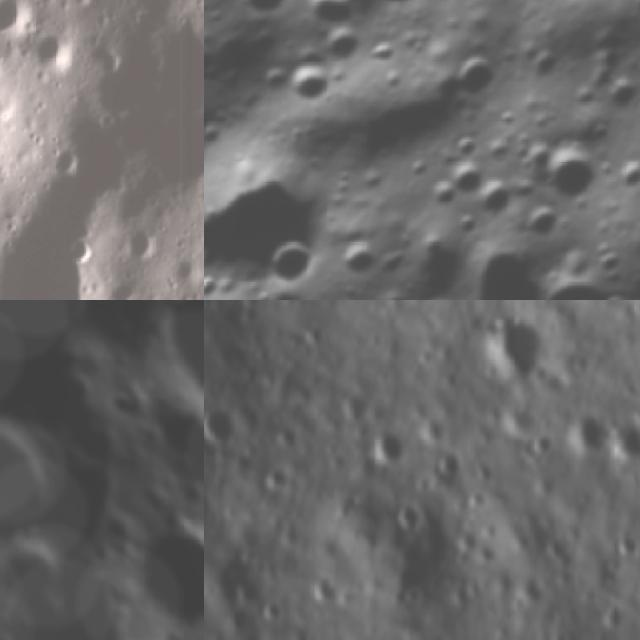crater: (57, 18, 204, 231), (204, 131, 358, 300), (0, 377, 78, 582), (418, 226, 573, 300), (120, 505, 204, 639), (129, 375, 204, 524), (0, 223, 118, 300), (138, 300, 204, 437), (204, 42, 248, 229), (470, 303, 550, 394), (530, 132, 614, 215), (435, 34, 512, 110), (521, 250, 638, 300), (256, 228, 327, 300), (280, 49, 344, 114), (310, 17, 369, 74), (510, 128, 565, 183), (360, 422, 414, 477), (297, 0, 366, 42), (565, 404, 613, 464), (332, 233, 383, 284), (581, 235, 632, 286), (593, 68, 640, 120), (444, 153, 492, 201), (420, 171, 468, 218), (226, 0, 300, 30), (523, 41, 570, 88), (114, 224, 160, 271), (502, 398, 547, 446), (386, 491, 429, 540), (302, 569, 349, 613), (35, 28, 77, 74), (204, 399, 240, 450), (607, 416, 640, 470), (606, 148, 640, 200), (254, 55, 296, 97), (445, 125, 487, 167), (428, 446, 468, 484), (361, 0, 435, 20), (166, 252, 201, 294), (0, 0, 33, 39), (607, 530, 640, 569), (452, 206, 487, 242), (589, 276, 640, 300), (204, 266, 228, 300), (108, 274, 139, 300)
